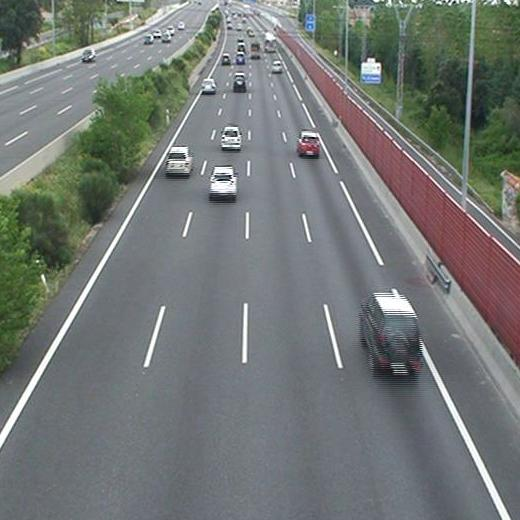car: (362, 295, 421, 372), (209, 167, 236, 197), (166, 146, 192, 174), (297, 132, 319, 156), (221, 128, 242, 148), (233, 72, 245, 89), (201, 79, 215, 92), (271, 61, 282, 72), (221, 54, 231, 64)
small-truck: (251, 41, 261, 58)
tank-truck: (265, 35, 275, 53)
van: (237, 52, 245, 64)
